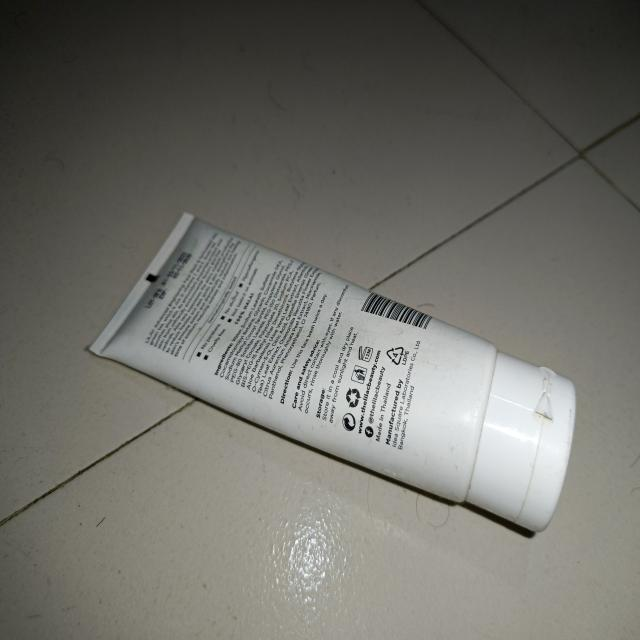Squeeze Tube: (84, 202, 596, 537)
